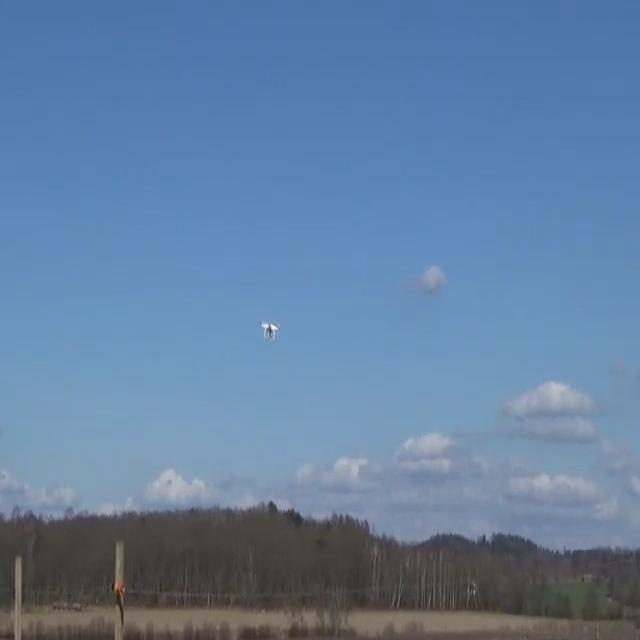drone: (259, 319, 279, 339)
